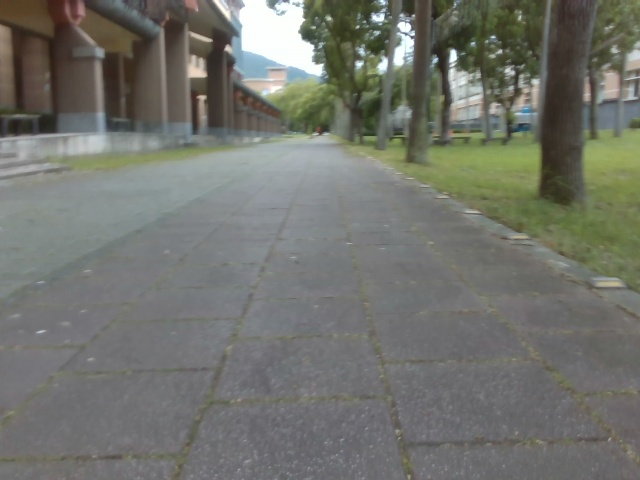grass: (264, 0, 639, 206), (333, 127, 639, 304), (22, 147, 225, 176)
road: (0, 136, 639, 479)
